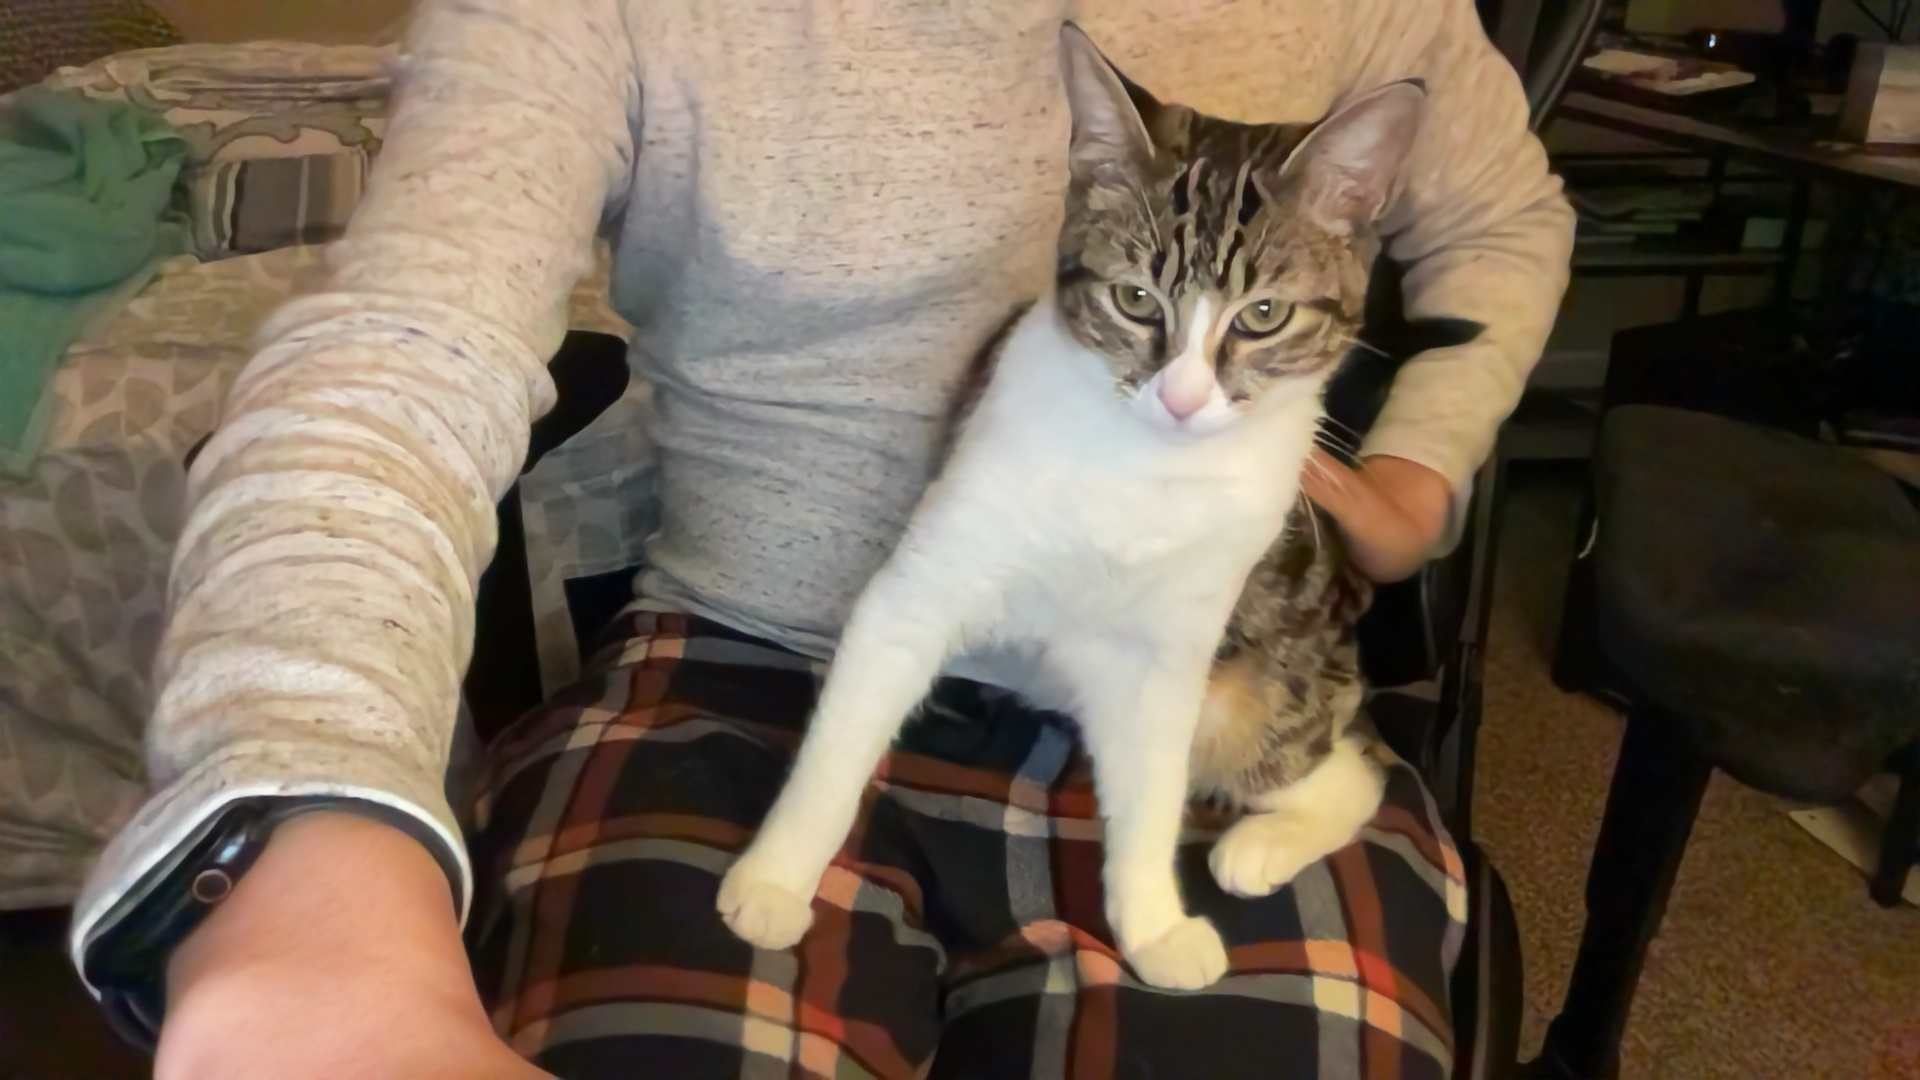cat: (715, 22, 1429, 1001)
